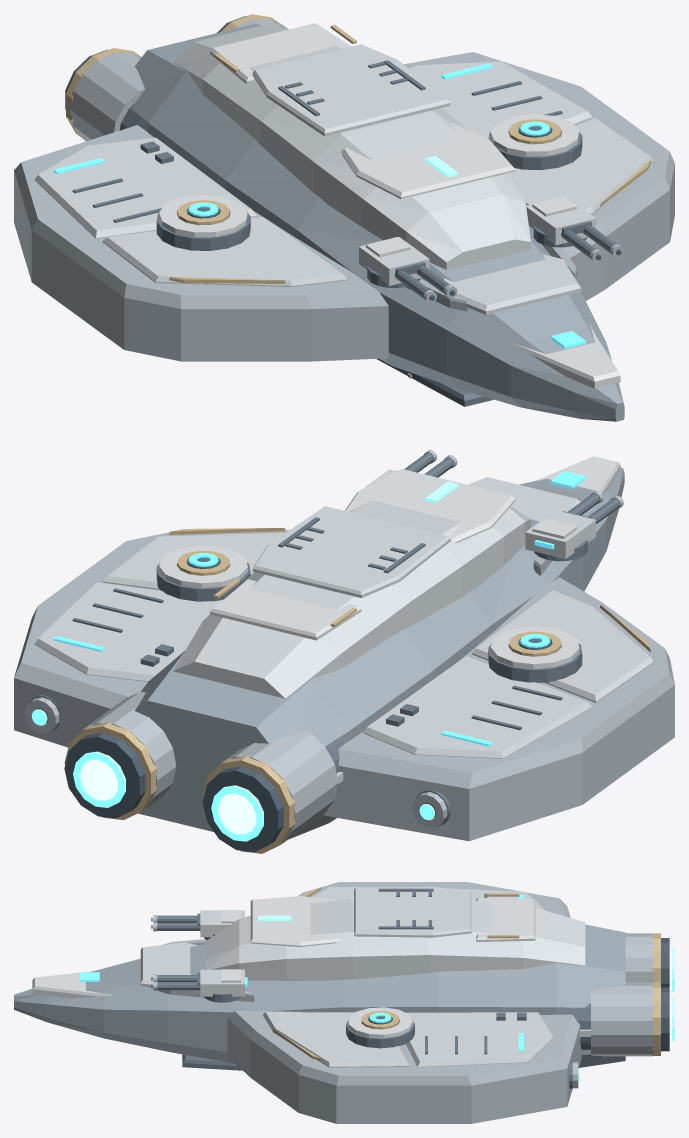
The model's file is NX02_Escort_Reference_Style.glb.
3 renders of one model, top to bottom at view 1: azimuth 30°, elevation 25°; view 2: azimuth 150°, elevation 25°; view 3: azimuth 270°, elevation 25°, orthographic. The views are drawn at different scales.
Parts seen in each view (by area): view 1: NX02_Escort_titanium, NX02_Escort_titanium_shadow, NX02_Escort_mid, NX02_Escort_titanium_light, NX02_Escort_gunmetal, NX02_Escort_gold, NX02_Escort_cyan_dim; view 2: NX02_Escort_titanium, NX02_Escort_titanium_shadow, NX02_Escort_mid, NX02_Escort_titanium_light, NX02_Escort_gunmetal, NX02_Escort_carbon, NX02_Escort_gold, NX02_Escort_cyan, NX02_Escort_cyan_bright, NX02_Escort_cyan_dim; view 3: NX02_Escort_titanium, NX02_Escort_titanium_shadow, NX02_Escort_mid, NX02_Escort_titanium_light, NX02_Escort_gunmetal, NX02_Escort_gold, NX02_Escort_carbon, NX02_Escort_cyan_dim, NX02_Escort_cyan.
Boxes of the visible parts, bbox=[...] form: NX02_Escort_titanium: bbox=[34, 25, 653, 314]; NX02_Escort_titanium_shadow: bbox=[14, 18, 674, 378]; NX02_Escort_mid: bbox=[134, 23, 624, 421]; NX02_Escort_titanium_light: bbox=[159, 23, 620, 388]; NX02_Escort_gunmetal: bbox=[72, 60, 620, 406]; NX02_Escort_gold: bbox=[66, 14, 650, 283]; NX02_Escort_cyan_dim: bbox=[53, 63, 585, 348]; NX02_Escort_titanium: bbox=[34, 469, 653, 783]; NX02_Escort_titanium_shadow: bbox=[14, 450, 674, 842]; NX02_Escort_mid: bbox=[134, 467, 624, 839]; NX02_Escort_titanium_light: bbox=[159, 456, 620, 669]; NX02_Escort_gunmetal: bbox=[29, 453, 620, 826]; NX02_Escort_carbon: bbox=[64, 732, 283, 851]; NX02_Escort_gold: bbox=[64, 528, 650, 853]; NX02_Escort_cyan: bbox=[31, 481, 458, 841]; NX02_Escort_cyan_bright: bbox=[80, 759, 256, 834]; NX02_Escort_cyan_dim: bbox=[53, 471, 585, 746]; NX02_Escort_titanium: bbox=[140, 886, 590, 1067]; NX02_Escort_titanium_shadow: bbox=[153, 882, 653, 1123]; NX02_Escort_mid: bbox=[14, 924, 625, 1067]; NX02_Escort_titanium_light: bbox=[32, 895, 535, 1038]; NX02_Escort_gunmetal: bbox=[157, 888, 590, 1089]; NX02_Escort_gold: bbox=[273, 887, 660, 1060]; NX02_Escort_carbon: bbox=[151, 917, 669, 1051]; NX02_Escort_cyan_dim: bbox=[80, 895, 523, 1051]; NX02_Escort_cyan: bbox=[258, 915, 674, 1081].
Bounding box in the file's own units: 9.8 × 3.37 × 13.94.
